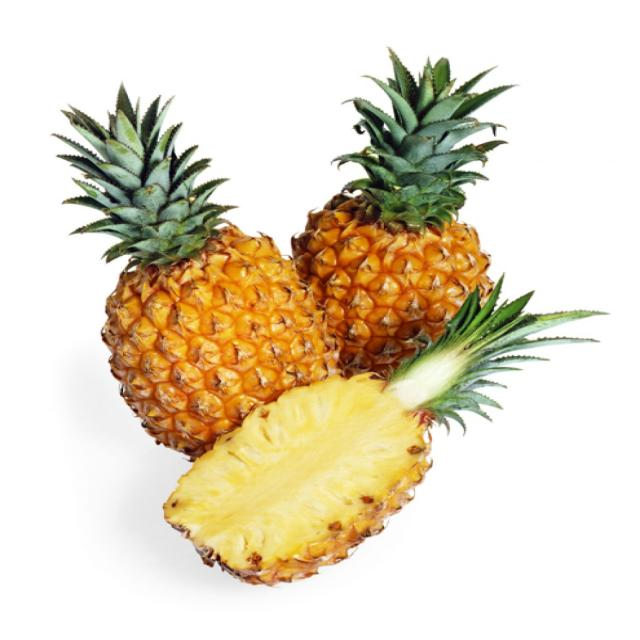pineapple: (169, 307, 561, 579), (73, 192, 345, 460), (288, 149, 512, 396)
